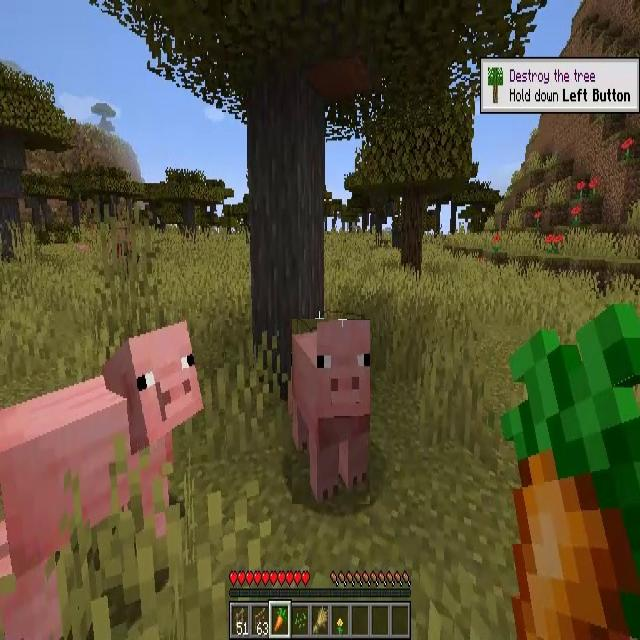pig: (0, 324, 203, 574), (292, 319, 370, 504)
